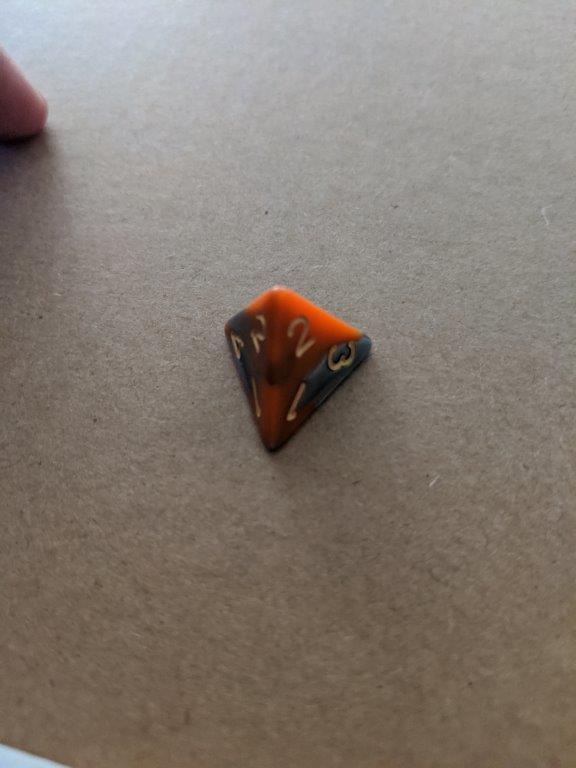d4-2: (214, 283, 374, 466)
